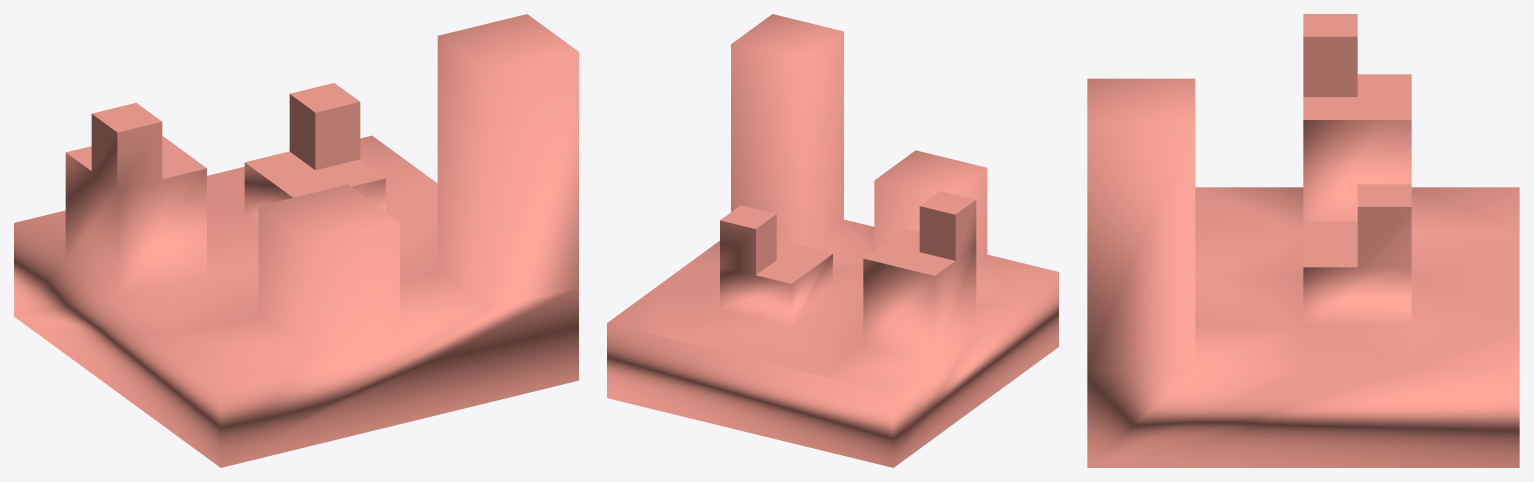
The model's file is black.dae.
3 renders of one model, left to right at view 1: azimuth 30°, elevation 25°; view 2: azimuth 150°, elevation 25°; view 3: azimuth 270°, elevation 25°, orthographic. The views are drawn at different scales.
Parts seen in each view (by area): view 1: pCube1; view 2: pCube1; view 3: pCube1.
Boxes of the visible parts, left/top/right/bottom form: pCube1: left=14, top=14, right=578, bottom=467; pCube1: left=607, top=14, right=1058, bottom=467; pCube1: left=1087, top=14, right=1519, bottom=467.
Bounding box in the file's own units: 2 × 1.75 × 2.
